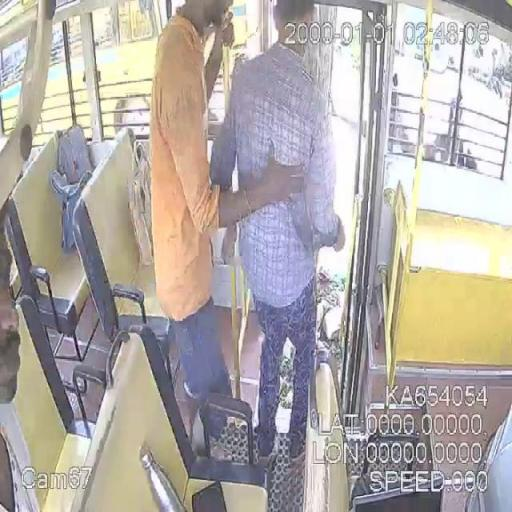persona: (148, 1, 302, 447), (208, 1, 346, 470)
